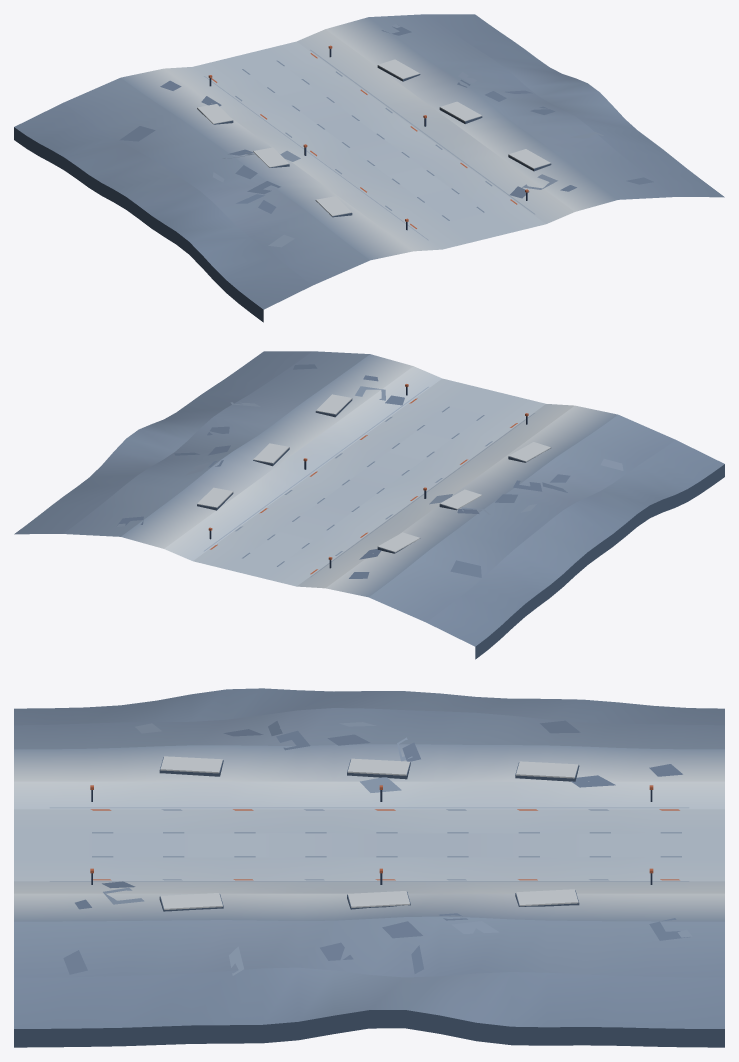
The model's file is 06-village.glb.
3 views of the same model, one above another, from view 1: azimuth 30°, elevation 25°; view 2: azimuth 150°, elevation 25°; view 3: azimuth 270°, elevation 25° (orthographic). The views are drawn at different scales.
Visible parts, largest first — view 1: village; view 2: village; view 3: village.
Part boxes in pixels (x1,y1,x2,y2): village: (14, 14, 724, 322); village: (14, 351, 724, 659); village: (14, 688, 724, 1047).
Bounding box in the file's own units: 32 × 2.76 × 30.
